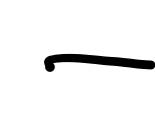minus: (44, 53, 155, 72)
